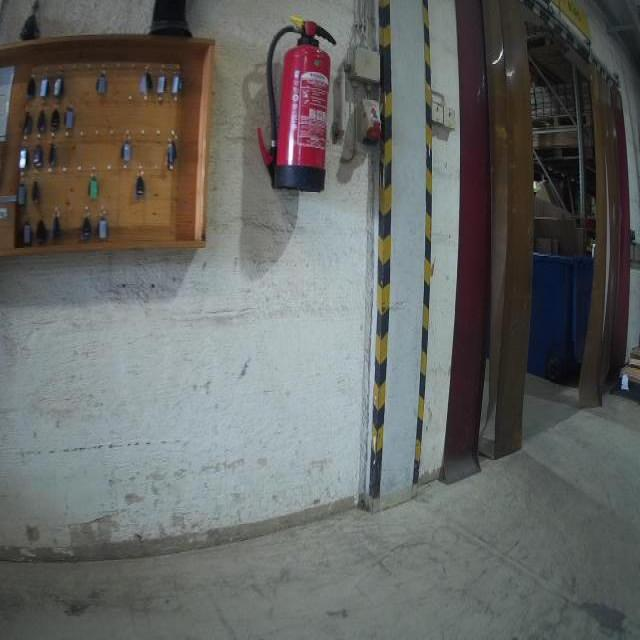pallet: (532, 112, 592, 134), (533, 146, 595, 166)
